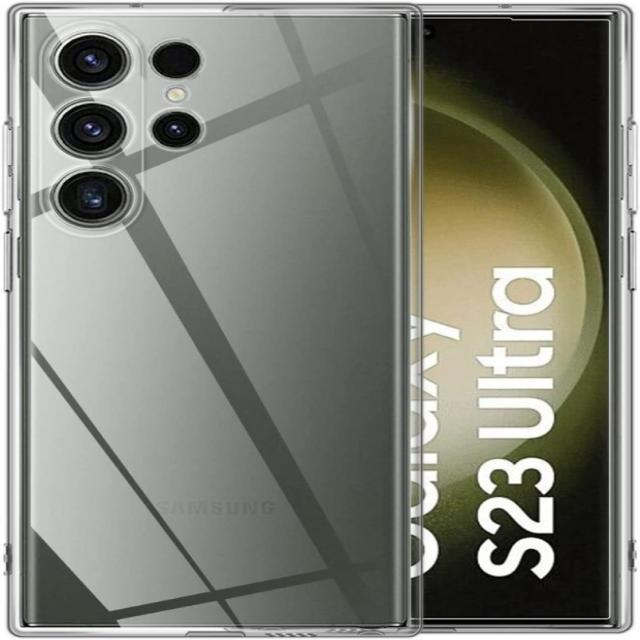phone: (6, 3, 422, 640)
